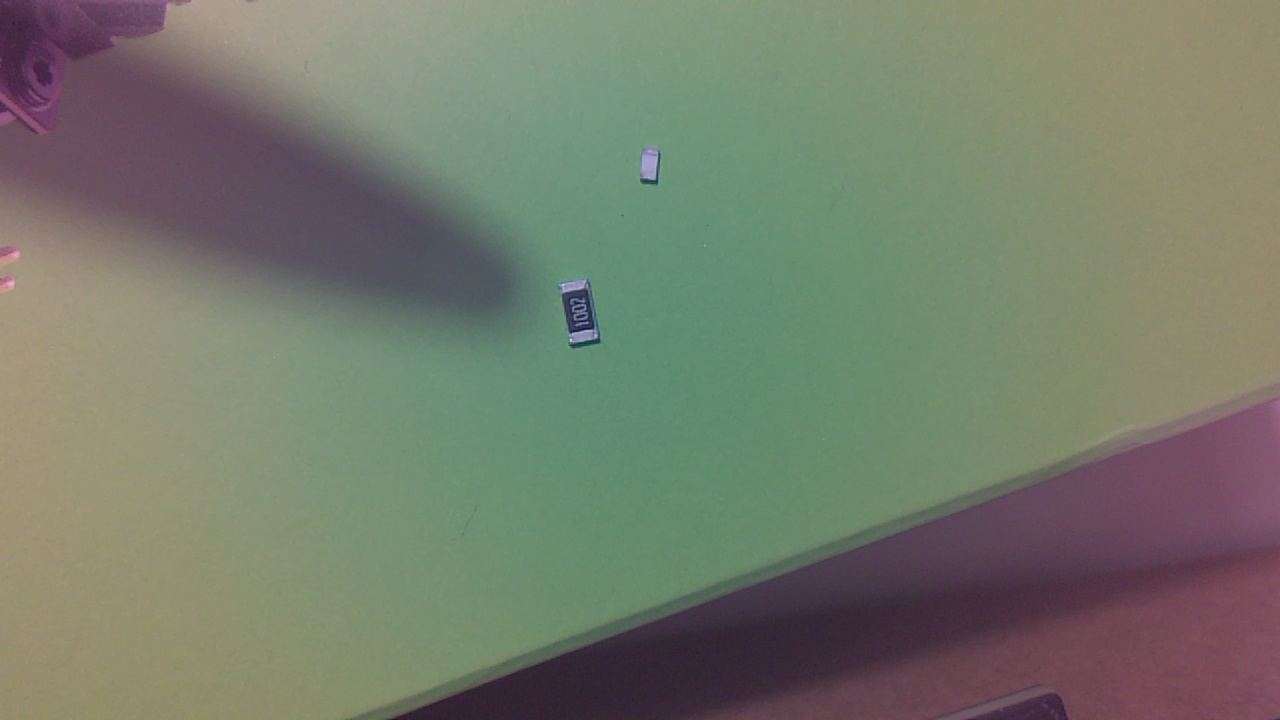Resistor: (562, 282, 609, 355)
